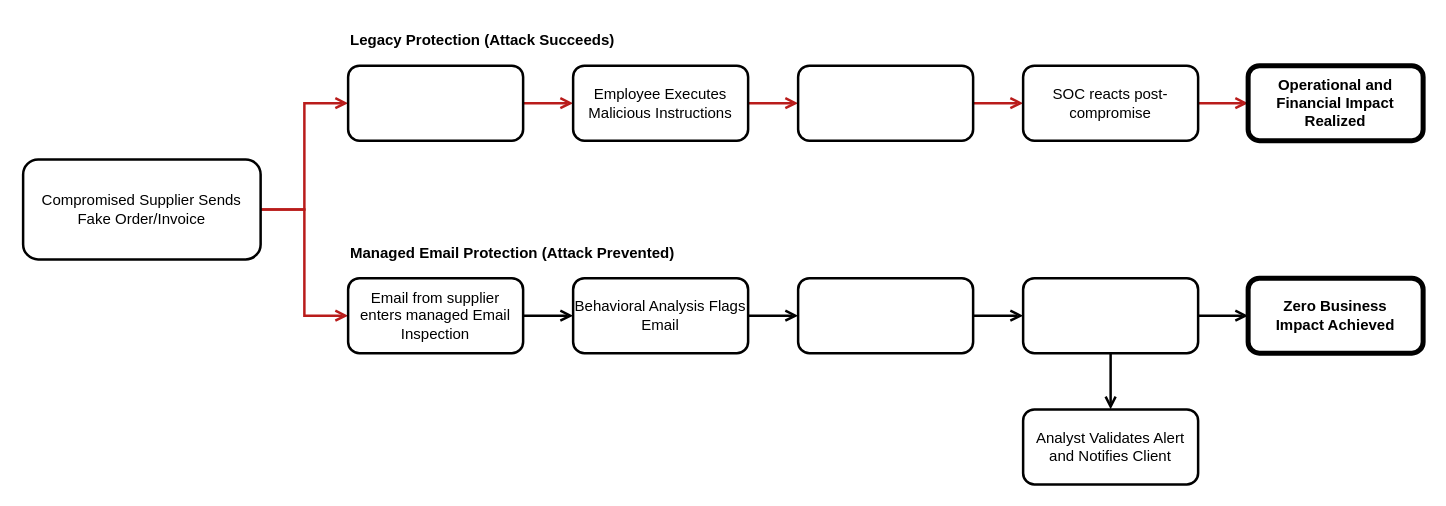
This 1446x506 diagram has some shape labels left out. The centre of each missing label's shape, as x and y in pixels:
Automated Quarantining & Mitigation: point (885, 315)
Impact Achieved: Data Exfiltration or Fraudulent Payment: point (885, 102)
Source (Supplier Domain) Flagged for Monitoring: point (1110, 315)
Standard filters allow email through: point (435, 102)
